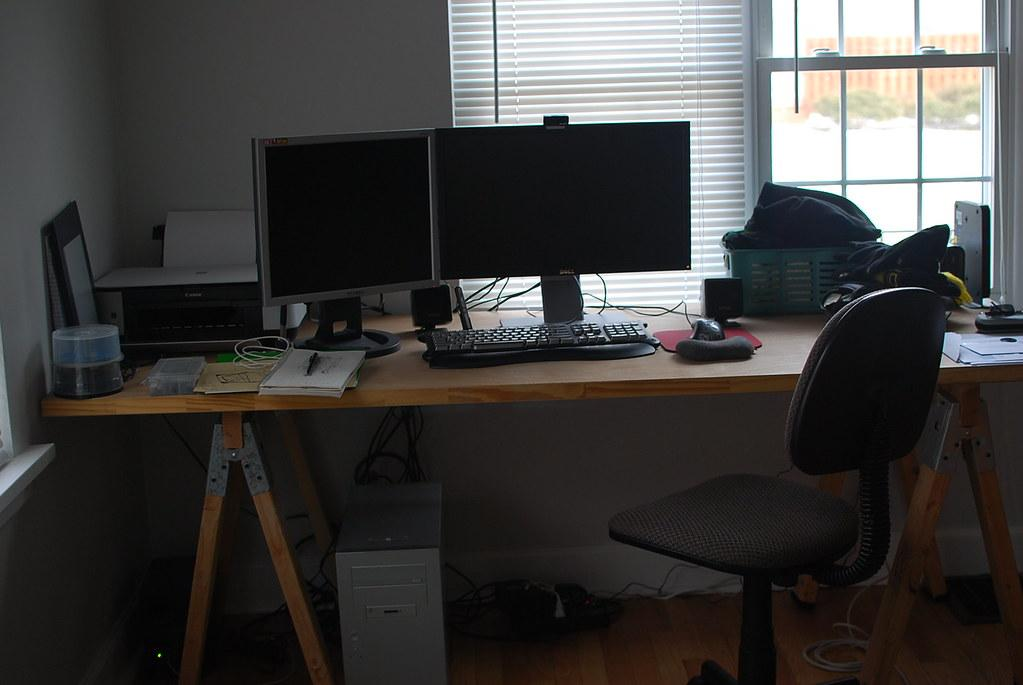computer: (440, 116, 696, 288), (252, 128, 440, 358), (334, 481, 449, 685)
